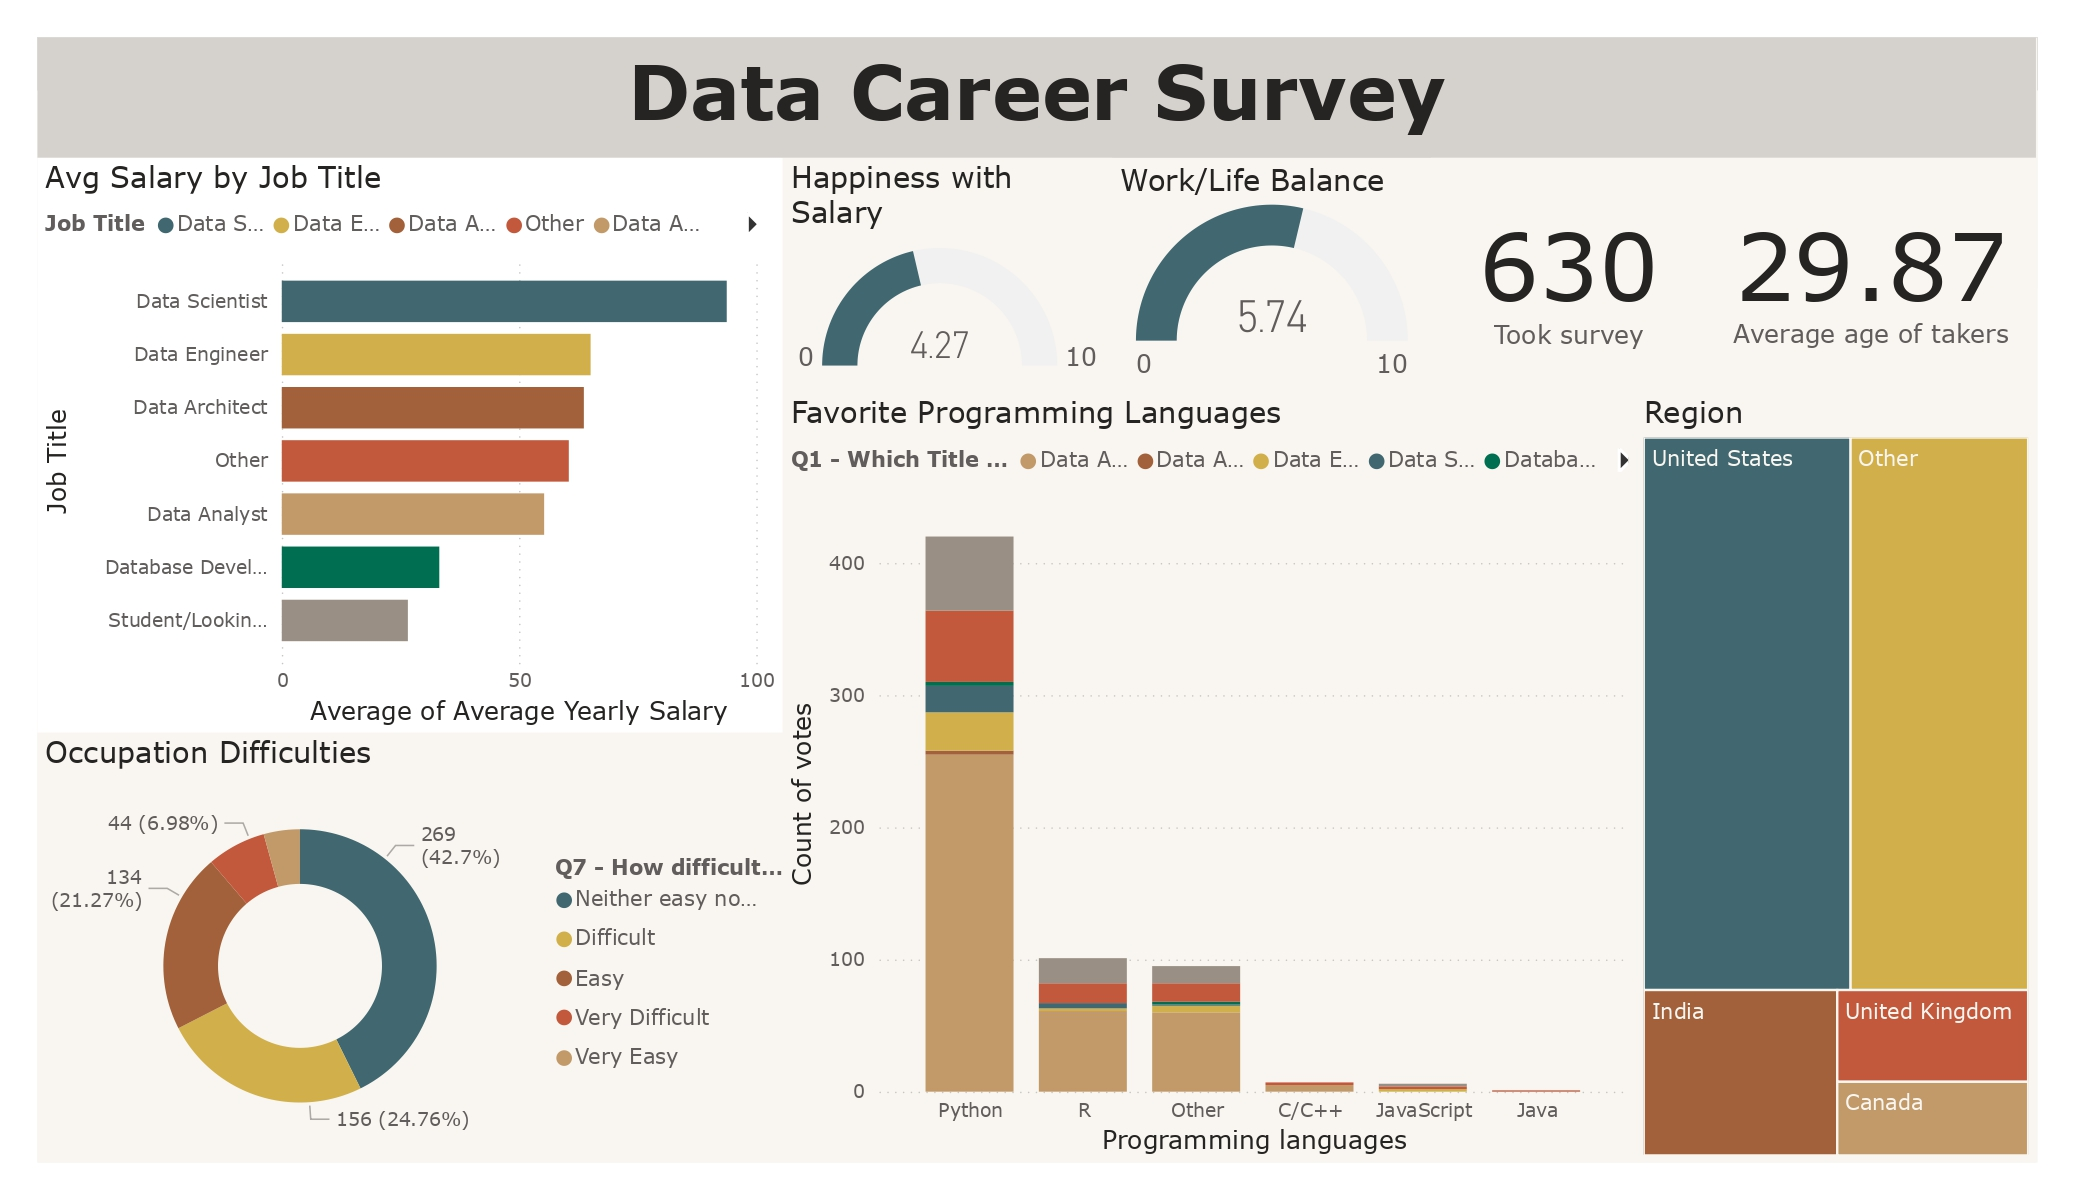

The dashboard page shown, as its layout file describes it:
{"tool":"powerbi","page":{"name":"Dashboard","canvas":[1280,720],"ordinal":0},"visuals":[{"type":"textbox","box":[0,0,1279.4,77.2],"z":0},{"type":"card","fields":{"Values":["CountNonNull(Data Professional Survey.Unique ID)"]},"box":[891.6,77.2,176.3,151.1],"z":1000},{"type":"card","fields":{"Values":["Avg(Data Professional Survey.Q10 - Current Age)"]},"box":[1067.9,77.2,211.6,149.4],"z":2000},{"type":"barChart","title":"Avg Salary by Job Title","fields":{"Y":["Avg(Data Professional Survey.Average Yearly Salary)"],"Category":["Data Professional Survey.Q1 - Which Title Best Fits your Current Role?.1"],"Series":["Data Professional Survey.Q1 - Which Title Best Fits your Current Role?.1"]},"box":[0,77.2,476.9,367.7],"z":3000},{"type":"columnChart","title":"Favorite Programming Languages","fields":{"Category":["Data Professional Survey.Q5 - Favorite Programming Language.1.1"],"Y":["CountNonNull(Data Professional Survey.Q5 - Favorite Programming Language.1.1)"],"Series":["Data Professional Survey.Q1 - Which Title Best Fits your Current Role?.1"]},"box":[476.9,228.4,545.7,492],"z":4000},{"type":"treemap","title":"Region","fields":{"Group":["Data Professional Survey.Q11 - Which Country do you live in?.1"],"Values":["CountNonNull(Data Professional Survey.Q11 - Which Country do you live in?.1)"]},"box":[1022.6,228.4,256.9,492],"z":5000},{"type":"gauge","title":"Happiness with Salary","fields":{"Y":["Avg(Data Professional Survey.Q6 - How Happy are you in your Current Position with the following? (Salary))"],"MinValue":["Min(Data Professional Survey.Q6 - How Happy are you in your Current Position with the following? (Salary))"],"MaxValue":["Max(Data Professional Survey.Q6 - How Happy are you in your Current Position with the following? (Salary))"]},"box":[476.9,77.2,211.6,151.1],"z":6000},{"type":"gauge","title":"Work/Life Balance","fields":{"Y":["Avg(Data Professional Survey.Q6 - How Happy are you in your Current Position with the following? (Work/Life Balance))"],"MinValue":["Min(Data Professional Survey.Q6 - How Happy are you in your Current Position with the following? (Work/Life Balance))"],"MaxValue":["Max(Data Professional Survey.Q6 - How Happy are you in your Current Position with the following? (Work/Life Balance))"]},"box":[688.4,78.9,203.2,149.4],"z":7000},{"type":"donutChart","title":"Occupation Difficulties","fields":{"Category":["Data Professional Survey.Q7 - How difficult was it for you to break into Data?"],"Y":["CountNonNull(Data Professional Survey.Q7 - How difficult was it for you to break into Data?)"]},"box":[0,445,477,275],"z":8000}]}

Visuals, with their boxes in screenshot pixels (x1, y1, x2, y2):
textbox: 38/38/2037/158
card - CountNonNull(Data Professional Survey.Unique ID): 1431/158/1706/394
card - Avg(Data Professional Survey.Q10 - Current Age): 1706/158/2037/392
"Avg Salary by Job Title" barChart: 38/158/783/733
"Favorite Programming Languages" columnChart: 783/394/1635/1162
"Region" treemap: 1635/394/2037/1162
"Happiness with Salary" gauge: 783/158/1113/394
"Work/Life Balance" gauge: 1113/161/1431/394
"Occupation Difficulties" donutChart: 38/733/783/1162
